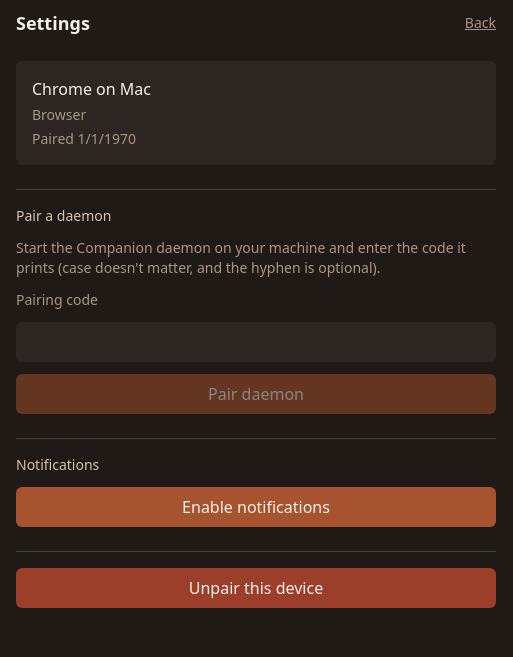
Test: SettingsScreen › notifications section › shows an inline error and does not change state when enabling push fails
This screenshot has width=513, height=657.
Click the button "Enable notifications".
click(256, 507)  # box [16,487,496,527]
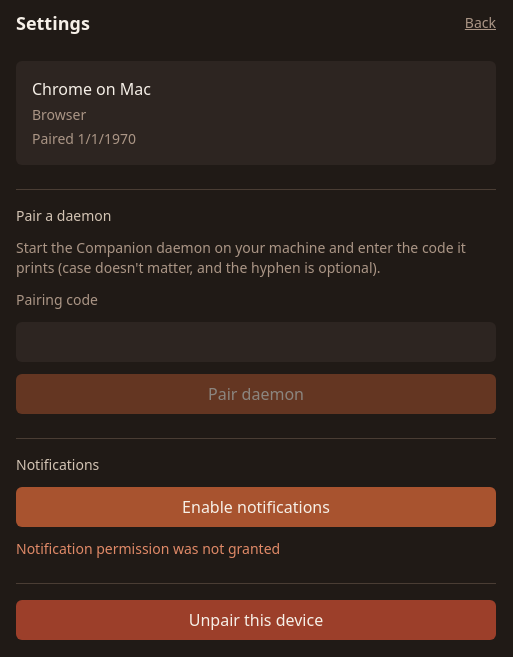
Expected: the message reads "Notification permission was not granted", [16,539,280,558]
